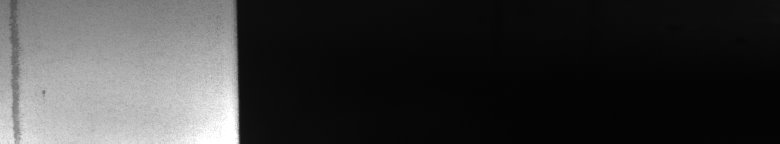hd: (4, 4, 46, 136)
